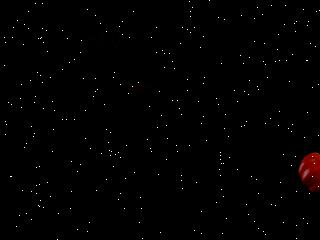Pumpkin: (298, 150, 320, 200)
